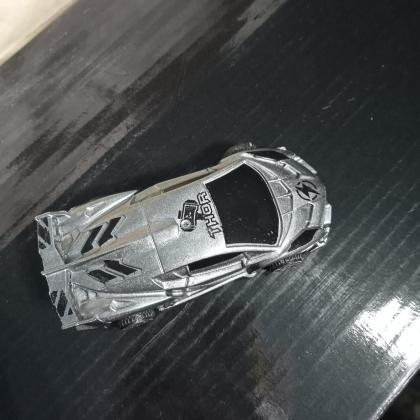Car: (34, 148, 332, 332)
